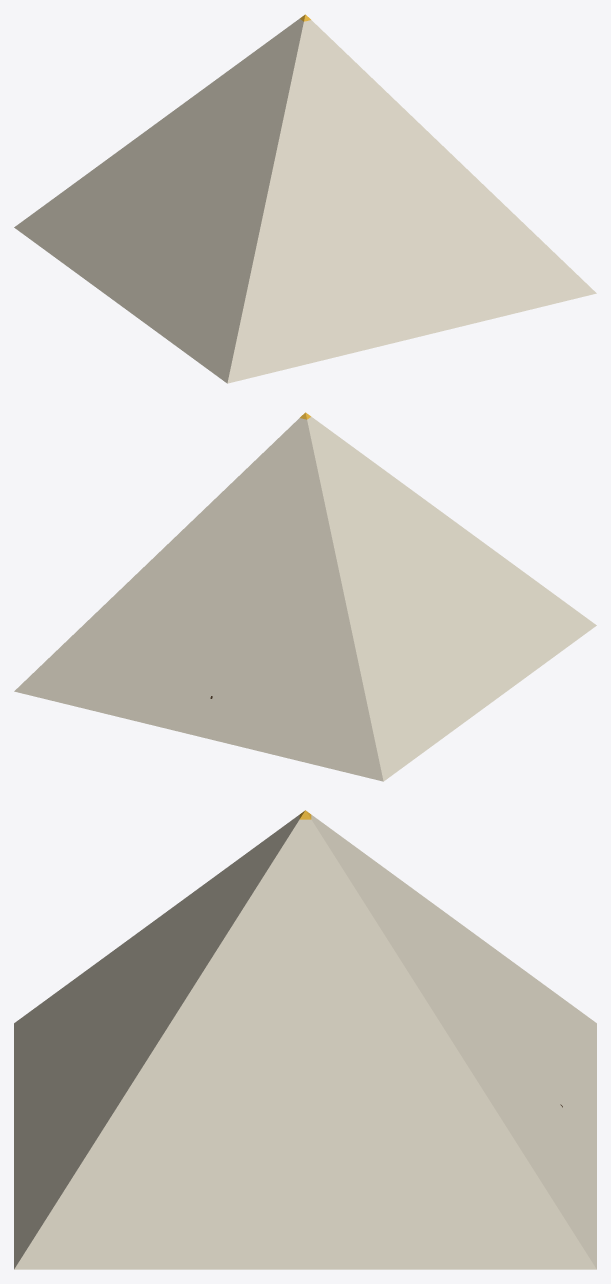
Rendered from piramide-queops-original.glb.
3 views of the same model, one above another, from view 1: azimuth 30°, elevation 25°; view 2: azimuth 150°, elevation 25°; view 3: azimuth 270°, elevation 25° (orthographic). The views are drawn at different scales.
Visible parts, largest first — view 1: Revestimento; view 2: Revestimento; view 3: Revestimento.
Boxes of the visible parts, left/top/right/bottom form: Revestimento: left=14, top=14, right=596, bottom=383; Revestimento: left=14, top=412, right=596, bottom=781; Revestimento: left=14, top=810, right=596, bottom=1269.
Size of the model in its own units: 232 by 148 by 232.
